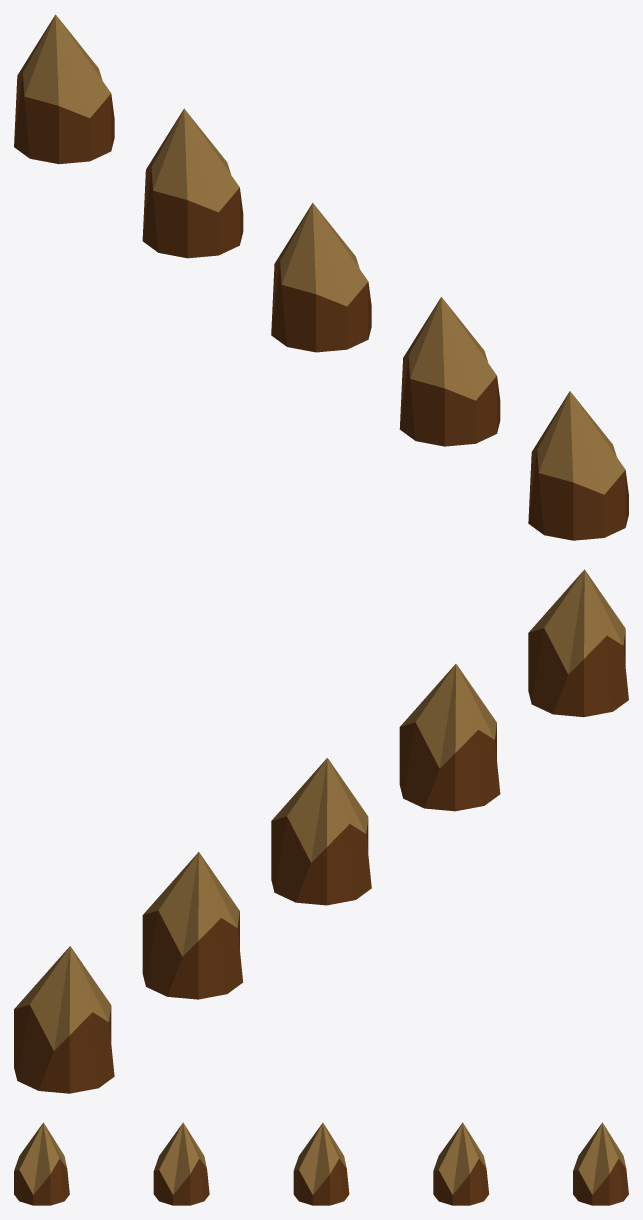
File: brokenfence.fbx
3 renders of one model, top to bottom at view 1: azimuth 30°, elevation 25°; view 2: azimuth 150°, elevation 25°; view 3: azimuth 270°, elevation 25°, orthographic. The views are drawn at different scales.
Parts seen in each view (by area): view 1: incompletefence; view 2: incompletefence; view 3: incompletefence.
Part boxes in pixels (box(x1,y1,x2,y2)): incompletefence: box(14, 14, 628, 540); incompletefence: box(14, 569, 628, 1093); incompletefence: box(14, 1122, 628, 1205).
Bounding box in the file's own units: 0.1594 × 1.84 × 0.2322.
